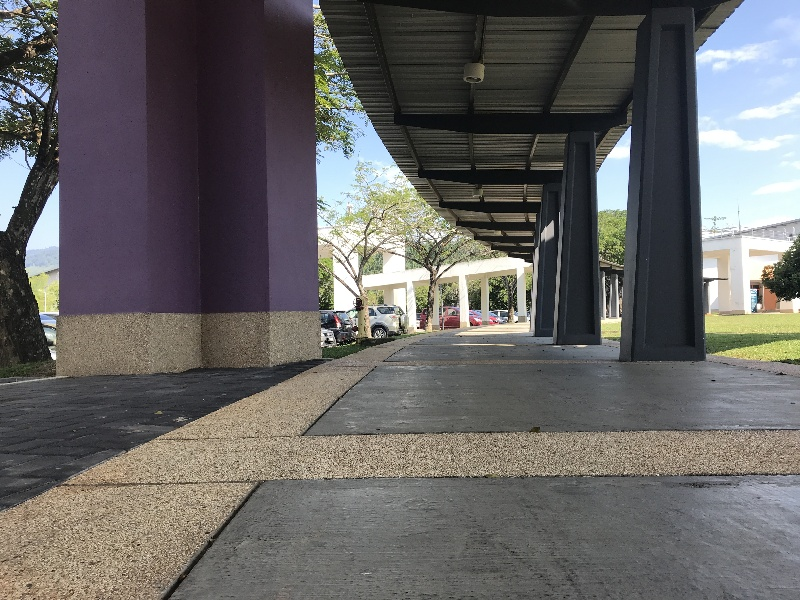pillar: (40, 2, 333, 381), (625, 21, 708, 367), (535, 135, 605, 350)
